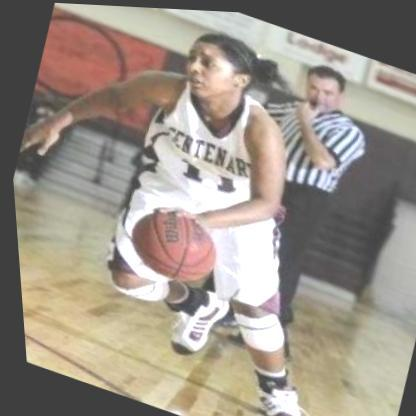basketball: (111, 193, 230, 299)
